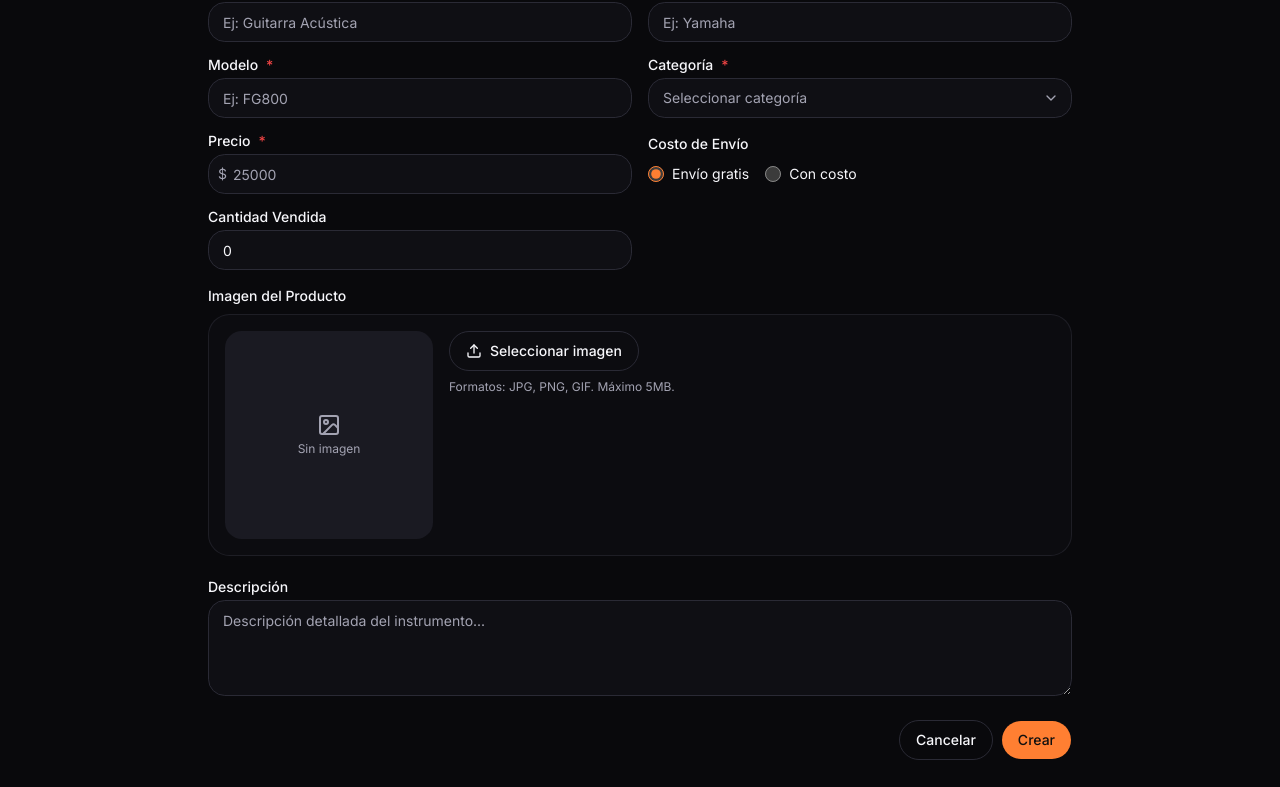
Scenario: InstrumentoForm (crear) › valida los campos obligatorios vacíos
(page scrolled)
Click the button "Crear" at [1036, 740], box 1001,720 -> 1072,760
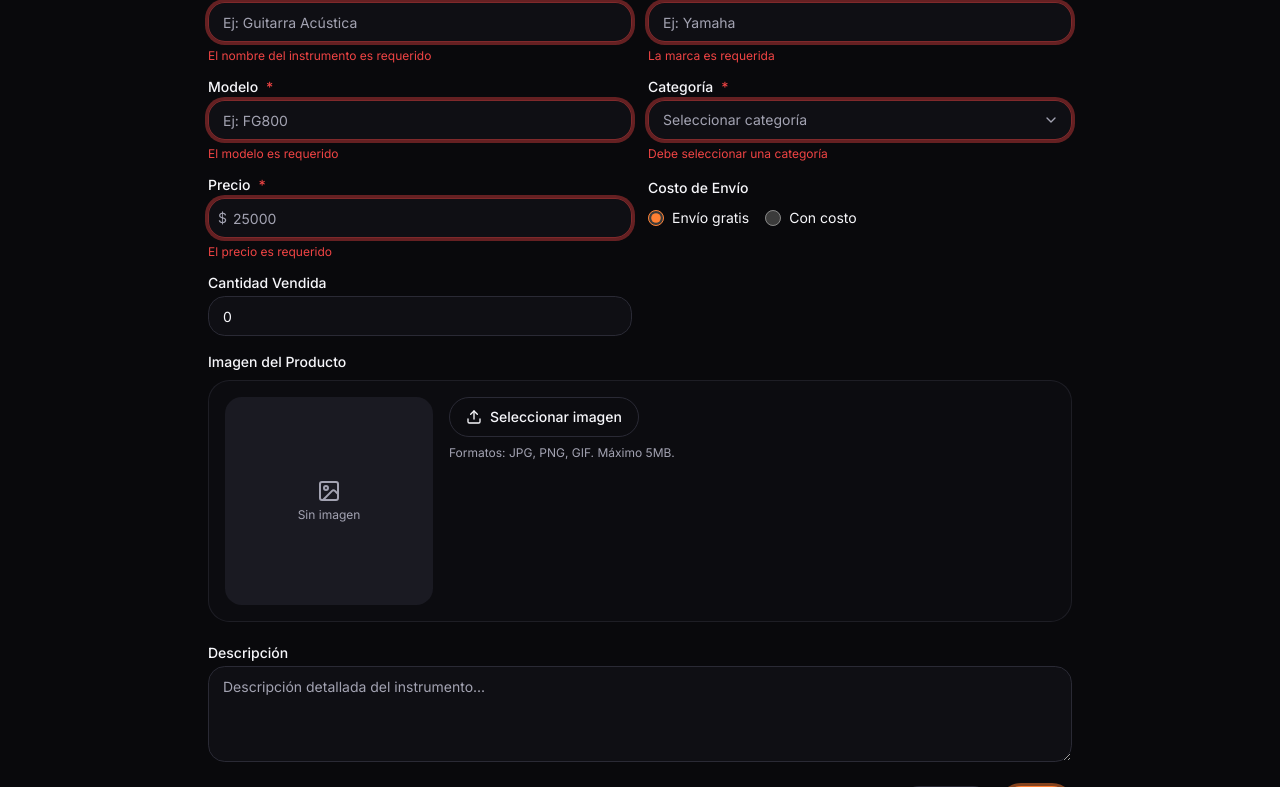
Check: the text "El nombre del instrumento es requerido" is shown, box 208,48 -> 431,63
Check: the text "La marca es requerida" is shown, box 648,48 -> 775,63
Check: the text "El modelo es requerido" is shown, box 208,146 -> 339,161
